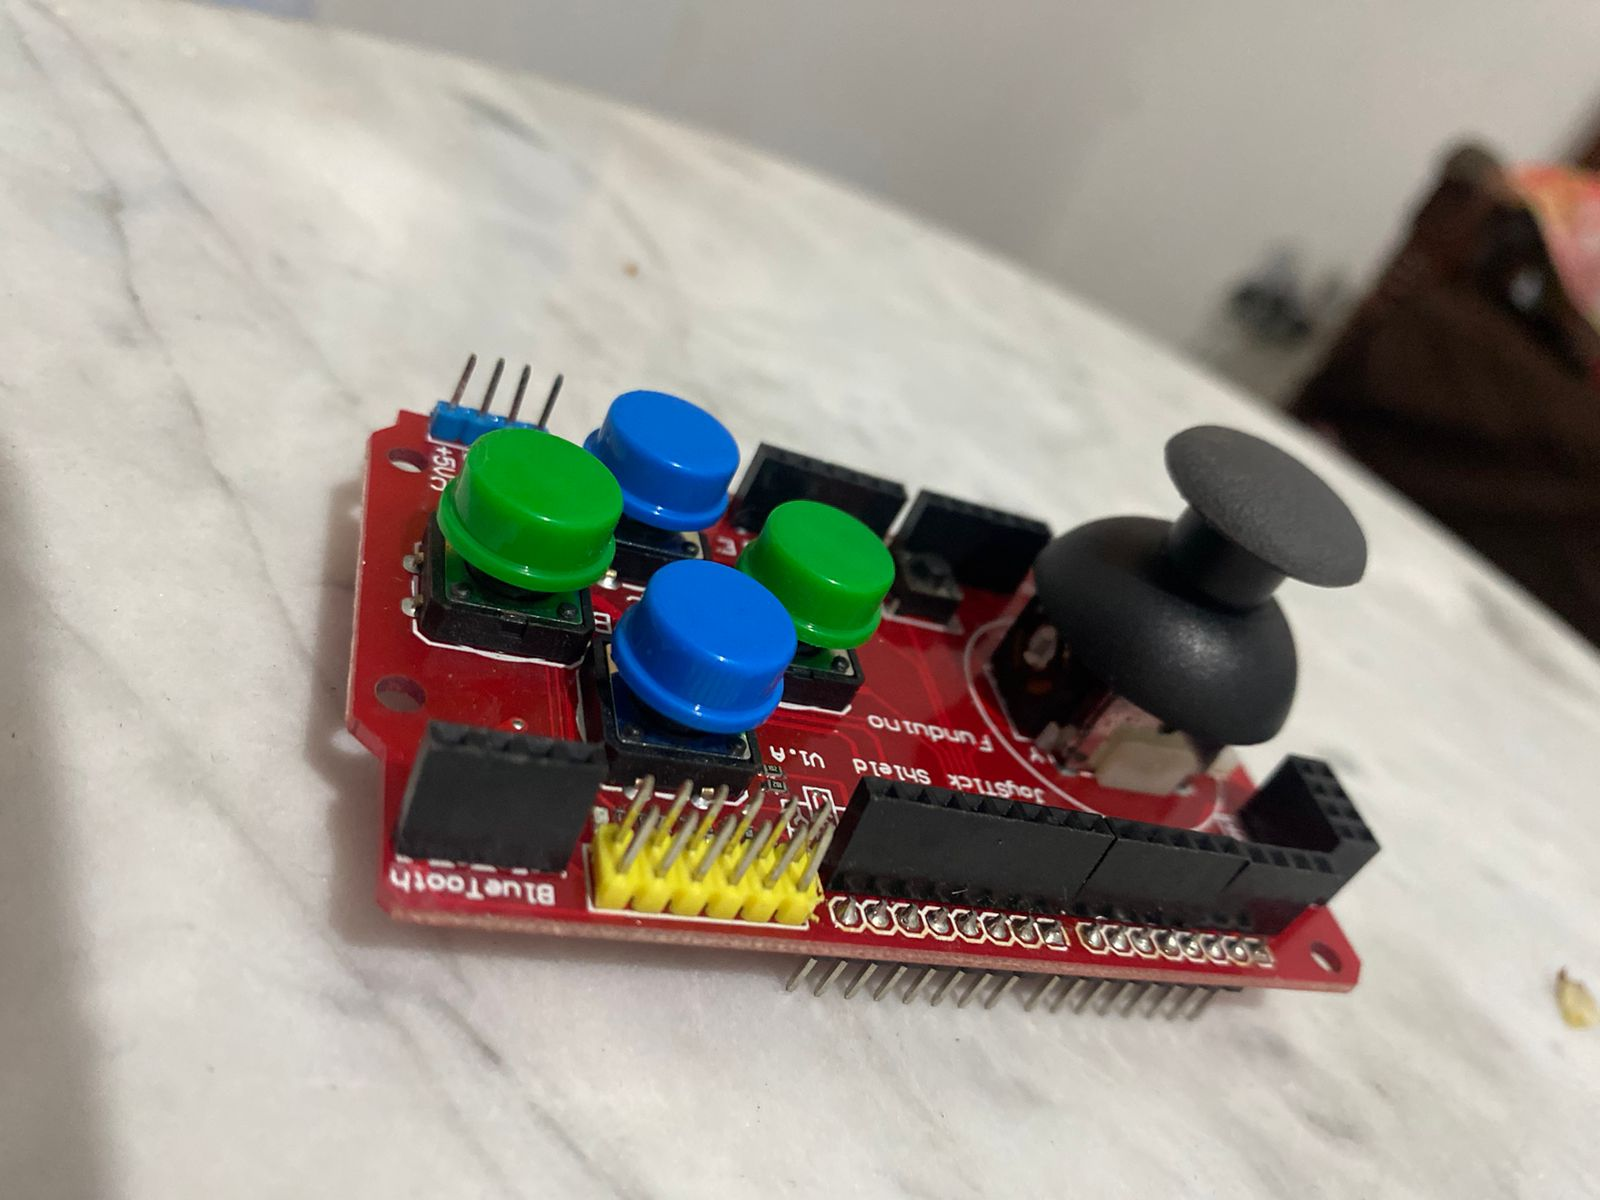Clavier-Joystick: (346, 335, 1420, 1050)
